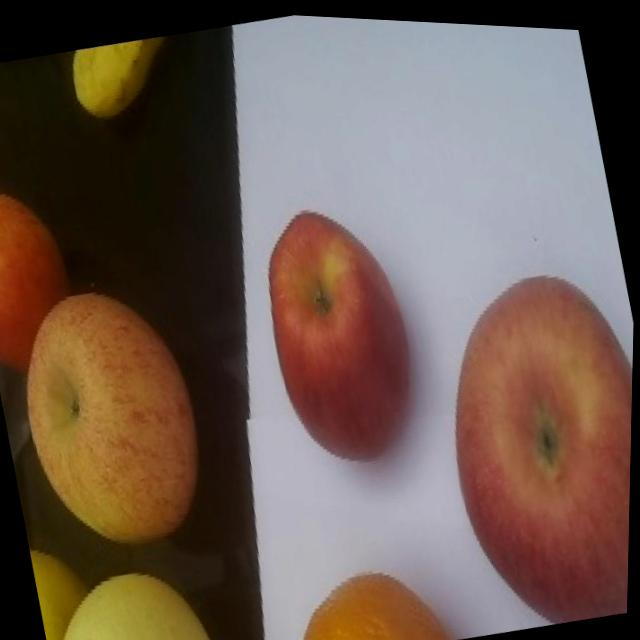Apple: (419, 246, 636, 633), (3, 270, 223, 562), (248, 186, 436, 473), (0, 176, 91, 381)
Orange: (285, 549, 453, 640)
